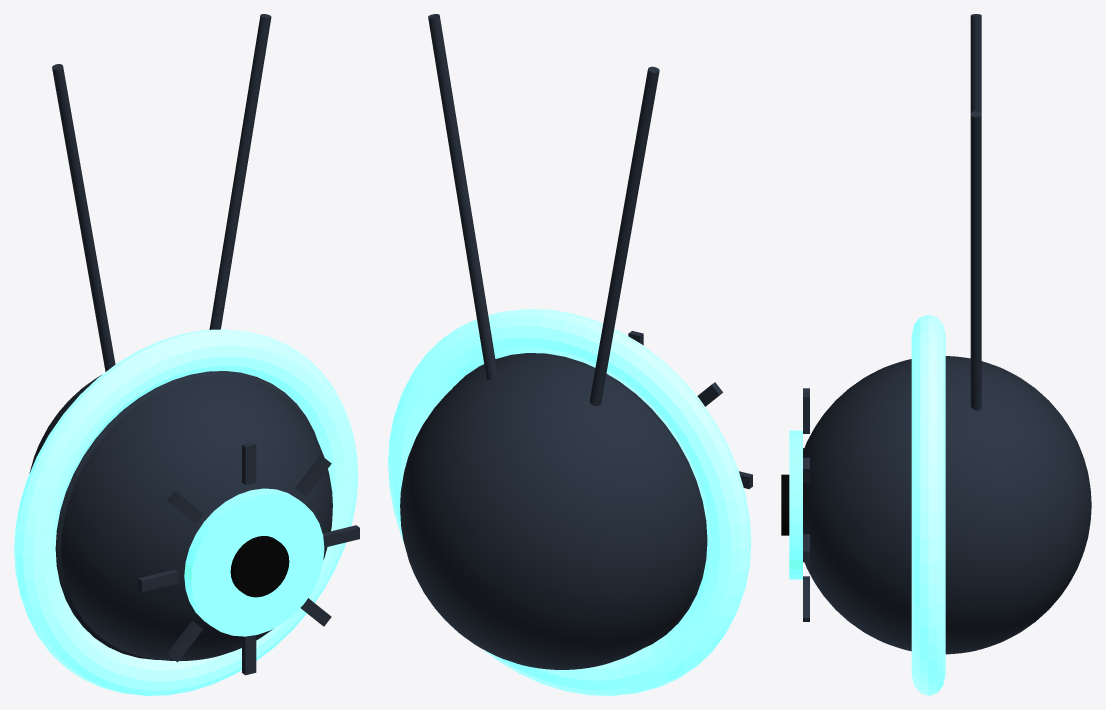
File: ch1-scorer-poc.glb
3 renders of one model, left to right at view 1: azimuth 30°, elevation 25°; view 2: azimuth 150°, elevation 25°; view 3: azimuth 270°, elevation 25°, orthographic. The views are drawn at different scales.
Visible parts, largest first — view 1: housing, outer_ring, bulb, Cylinder.001, Cylinder, lid_ring, pupil, blade_5, blade_1, blade_4, blade_2, blade_6 (+1 smaller); view 2: housing, outer_ring, Cylinder.001, Cylinder, lid_ring; view 3: housing, outer_ring, Cylinder.001, bulb, Cylinder, pupil.
Part boxes in pixels (x1,y1,x2,y2): housing: (29, 375, 332, 660); outer_ring: (14, 329, 358, 695); bulb: (184, 488, 324, 636); Cylinder.001: (209, 14, 271, 329); Cylinder: (52, 64, 115, 371); lid_ring: (55, 371, 316, 659); pupil: (230, 536, 289, 597); blade_5: (166, 621, 202, 662); blade_1: (295, 455, 331, 496); blade_4: (138, 569, 178, 591); blade_2: (242, 442, 256, 485); blade_6: (242, 635, 256, 675); housing: (400, 355, 704, 669); outer_ring: (388, 309, 751, 695); Cylinder.001: (428, 14, 497, 379); Cylinder: (589, 66, 659, 406); lid_ring: (452, 353, 707, 647); housing: (803, 356, 1091, 654); outer_ring: (911, 314, 945, 695); Cylinder.001: (970, 111, 981, 410); bulb: (789, 430, 802, 579); Cylinder: (970, 14, 981, 113); pupil: (781, 474, 789, 535).
Size of the model in its own units: 0.5625 by 0.9981 by 0.457.
